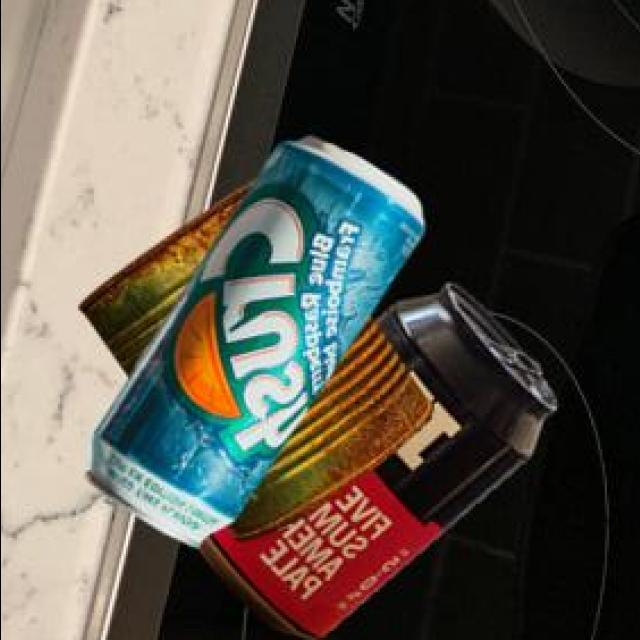logam: (87, 140, 426, 550), (201, 287, 559, 640), (83, 185, 435, 544)
